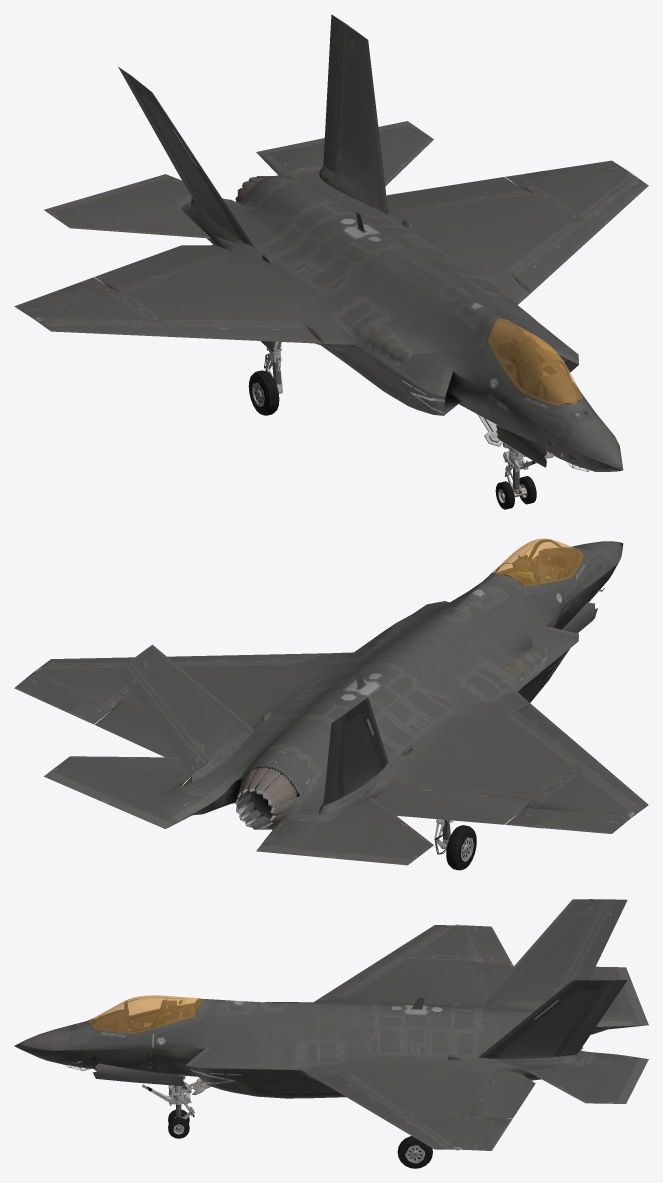
The picture shows the model from 3 angles, top to bottom: view 1: azimuth 30°, elevation 25°; view 2: azimuth 150°, elevation 25°; view 3: azimuth 270°, elevation 25°; orthographic projection. The views are drawn at different scales.
Parts seen in each view (by area): view 1: Object_4, Object_6, Object_4_gear; view 2: Object_4, Object_6, Object_4_gear; view 3: Object_4, Object_6, Object_4_gear.
Boxes of the visible parts, left/top/right/bottom form: Object_4: left=14, top=14, right=648, bottom=471; Object_6: left=488, top=318, right=583, bottom=405; Object_4_gear: left=248, top=347, right=536, bottom=509; Object_4: left=14, top=539, right=648, bottom=865; Object_6: left=491, top=538, right=583, bottom=586; Object_4_gear: left=434, top=819, right=476, bottom=870; Object_4: left=14, top=899, right=648, bottom=1150; Object_6: left=88, top=995, right=205, bottom=1033; Object_4_gear: left=144, top=1083, right=432, bottom=1168.
Bounding box in the file's own units: 13.13 × 5.3 × 15.7.
Materials: 4 (1 with a texture image).
